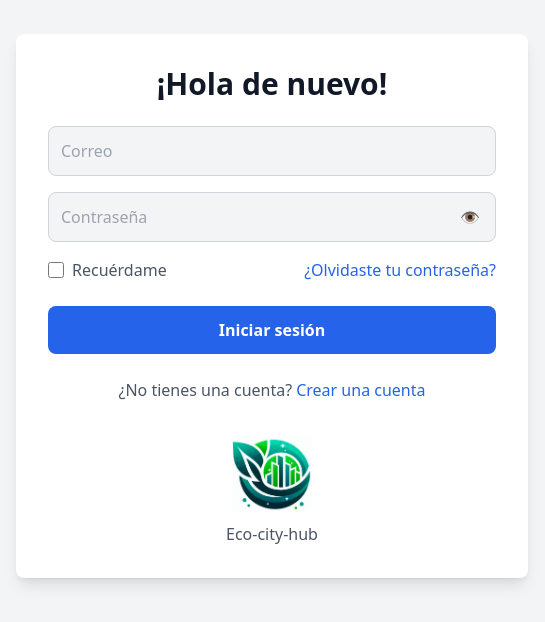
it: LogIn Component Tests › shows error message for invalid email format
The image size is (545, 622).
Type "invalid-email" into the field with placeholder "Correo". click: (272, 151)
box: x1=48 y1=126 x2=496 y2=176
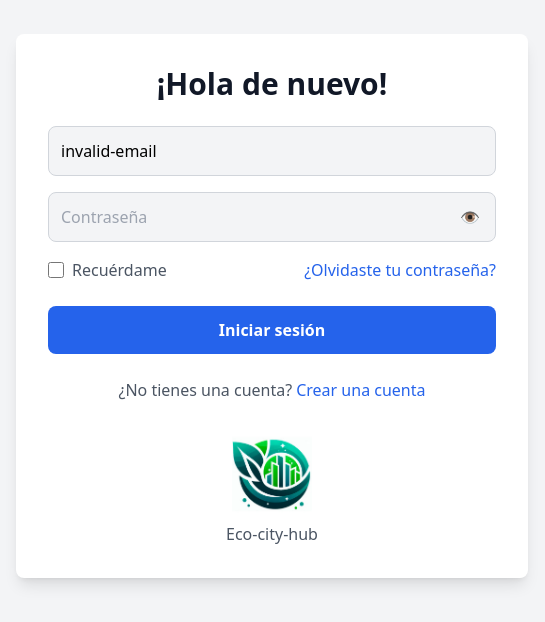
Type "Password123" into the password field with placeholder "Contraseña". click: (272, 217)
box: x1=48 y1=192 x2=496 y2=242
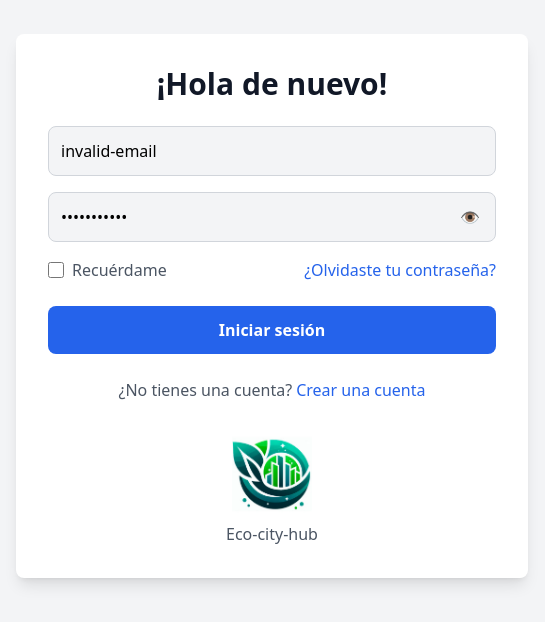
Click the button "Iniciar sesión". click: click(272, 330)
box: x1=48 y1=306 x2=496 y2=354
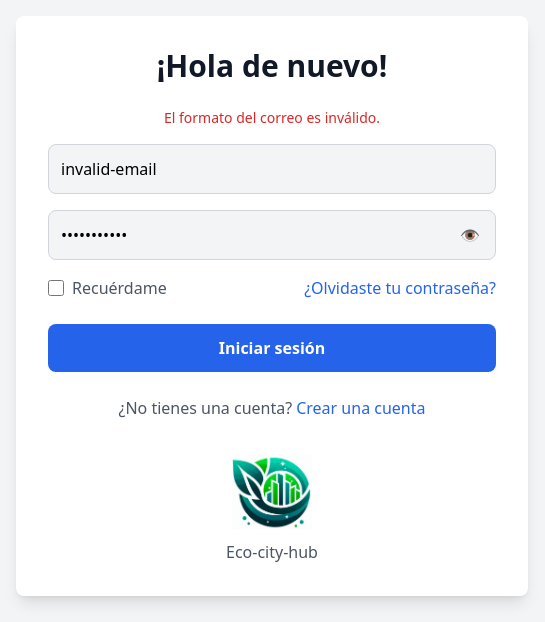
Check: the text "El formato del correo es inválido." is shown, box x1=164 y1=108 x2=380 y2=127
